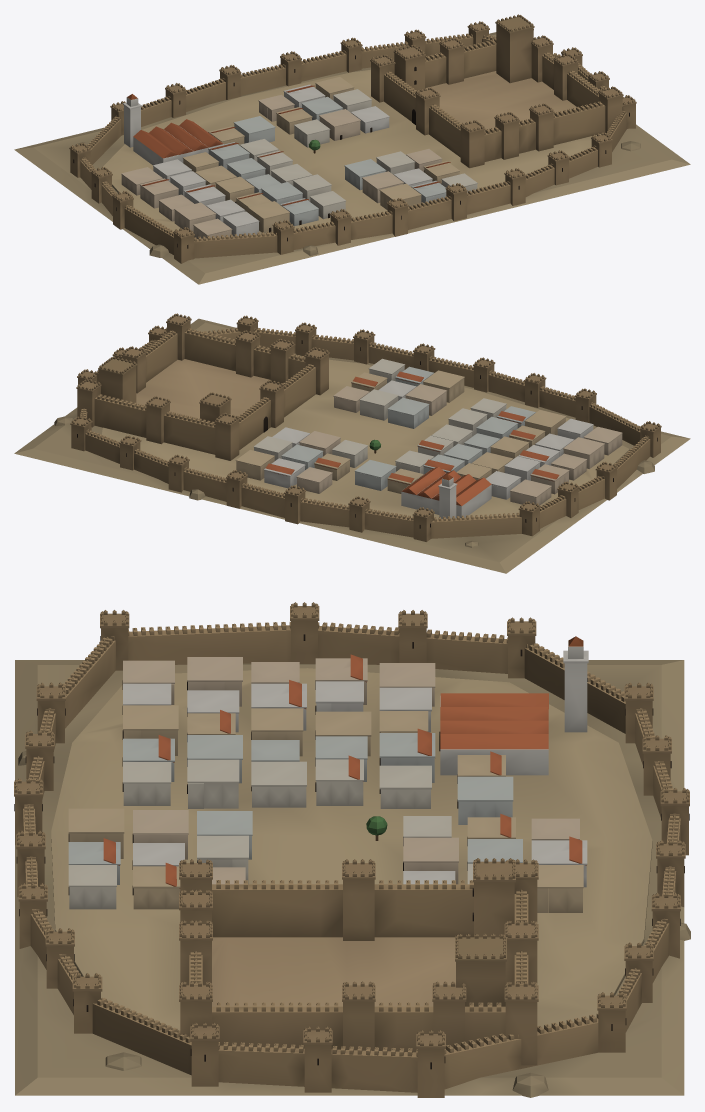
Rendered from castelo-moorish.glb.
The picture shows the model from 3 angles, top to bottom: view 1: azimuth 30°, elevation 25°; view 2: azimuth 150°, elevation 25°; view 3: azimuth 270°, elevation 25°; orthographic projection. The views are drawn at different scales.
Parts seen in each view (by area): view 1: p1_walls, p2_castle, p0_hill; view 2: p1_walls, p2_castle, p0_hill; view 3: p1_walls, p0_hill, p2_castle.
Part boxes in pixels (x1,y1,x2,y2): p1_walls: [69, 21, 636, 263]; p2_castle: [123, 14, 623, 168]; p0_hill: [14, 32, 690, 284]; p1_walls: [70, 315, 661, 541]; p2_castle: [76, 313, 491, 518]; p0_hill: [14, 318, 690, 573]; p1_walls: [14, 602, 689, 1097]; p0_hill: [15, 660, 690, 1097]; p2_castle: [179, 636, 588, 1065].
Size of the model in its own units: 232 by 26.99 by 150.
